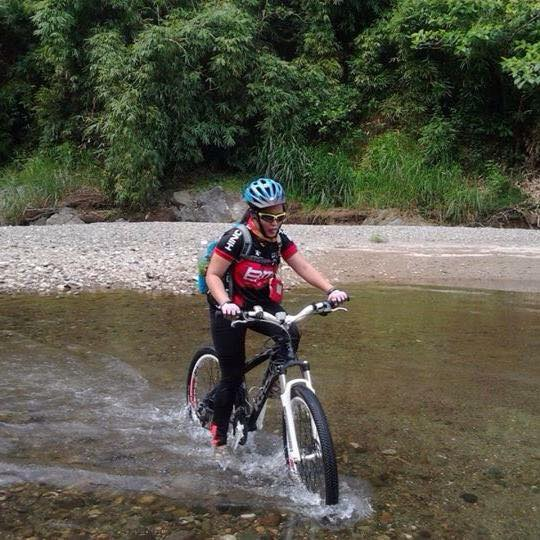bike: (182, 296, 350, 506)
person: (201, 178, 285, 442)
tree: (115, 39, 176, 202), (300, 16, 344, 128)
tree branches: (362, 14, 537, 82), (183, 28, 234, 145), (2, 5, 76, 45), (249, 60, 291, 120)
